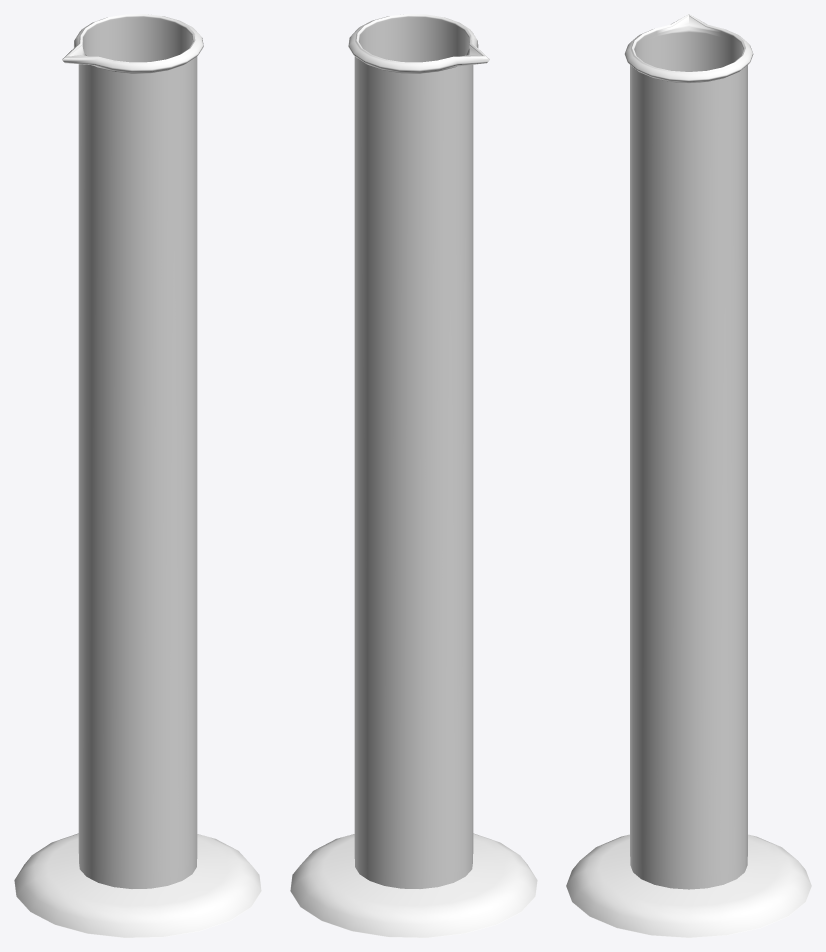
File: Graduated_Cylinder.glb
The picture shows the model from 3 angles, left to right: view 1: azimuth 30°, elevation 25°; view 2: azimuth 150°, elevation 25°; view 3: azimuth 270°, elevation 25°; orthographic projection.
Visible parts, largest first — view 1: Graduated_Cylinder1; view 2: Graduated_Cylinder1; view 3: Graduated_Cylinder1.
Boxes of the visible parts, left/top/right/bottom form: Graduated_Cylinder1: left=14, top=14, right=261, bottom=937; Graduated_Cylinder1: left=290, top=14, right=537, bottom=937; Graduated_Cylinder1: left=566, top=14, right=811, bottom=937.
Bounding box in the file's own units: 0.073 × 0.2746 × 0.073.
1 material, 1 textured.
